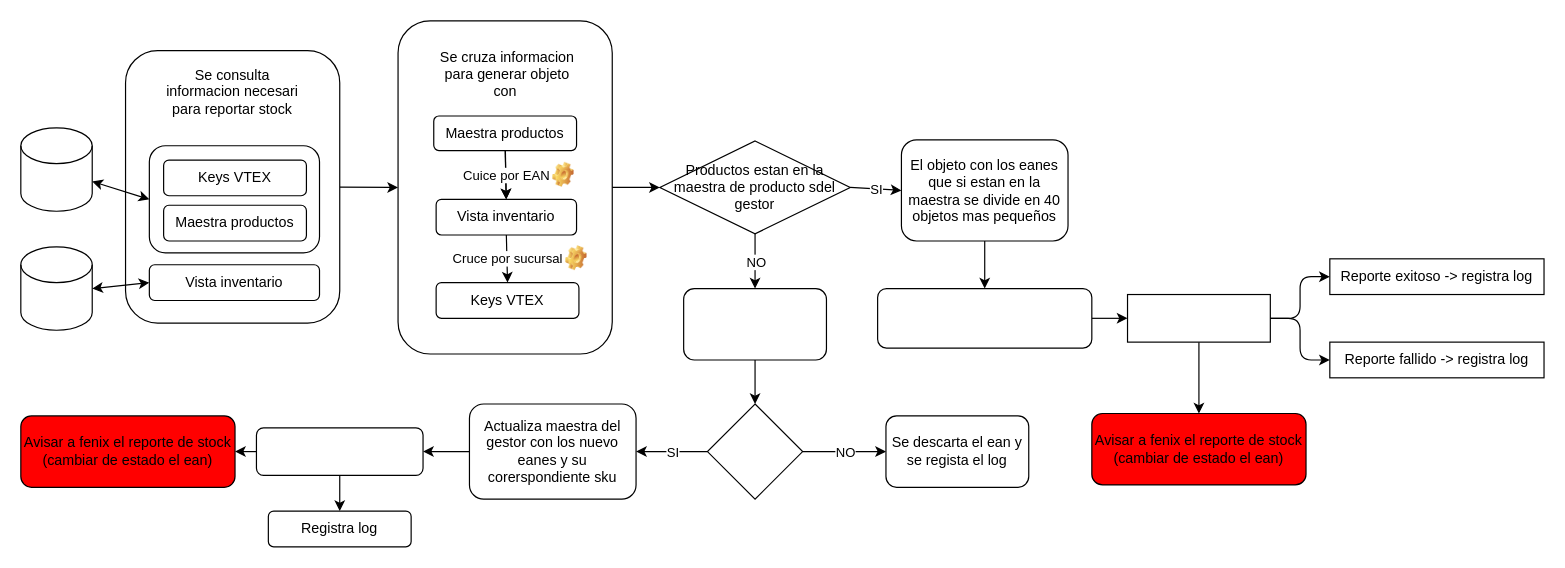
This 1565x568 diagram has some shape labels left out. Each missing label, with the centre of its shape:
cada objeto se envia a un subproceso independiente: the point at 984,317
Cada subproceso reporta stock a vtex: the point at 1198,317
El ean existe en VTEX: the point at 754,451
FENIX: the point at 56,288
G.O.E: the point at 56,169
Se lanza subproceso para buscar en VTEX el sku de cada ean: the point at 754,323
Se reporta stok a vtex: the point at 339,451
